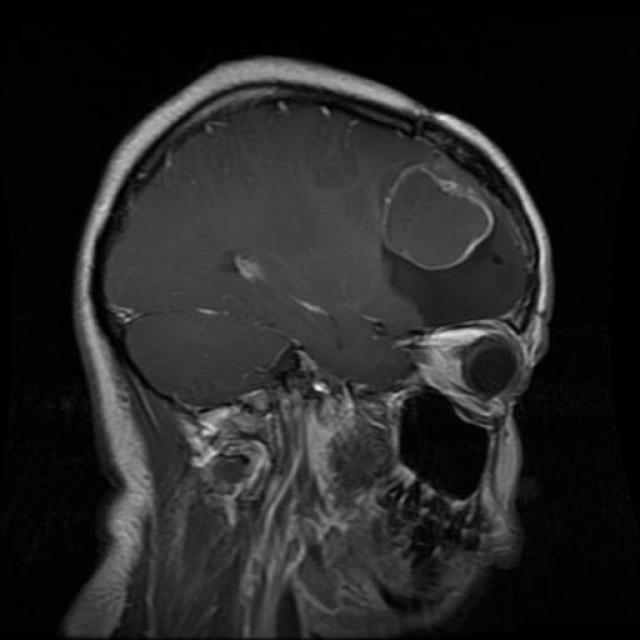Brain-Tumor: (371, 140, 512, 294)
eye: (400, 304, 548, 428)
